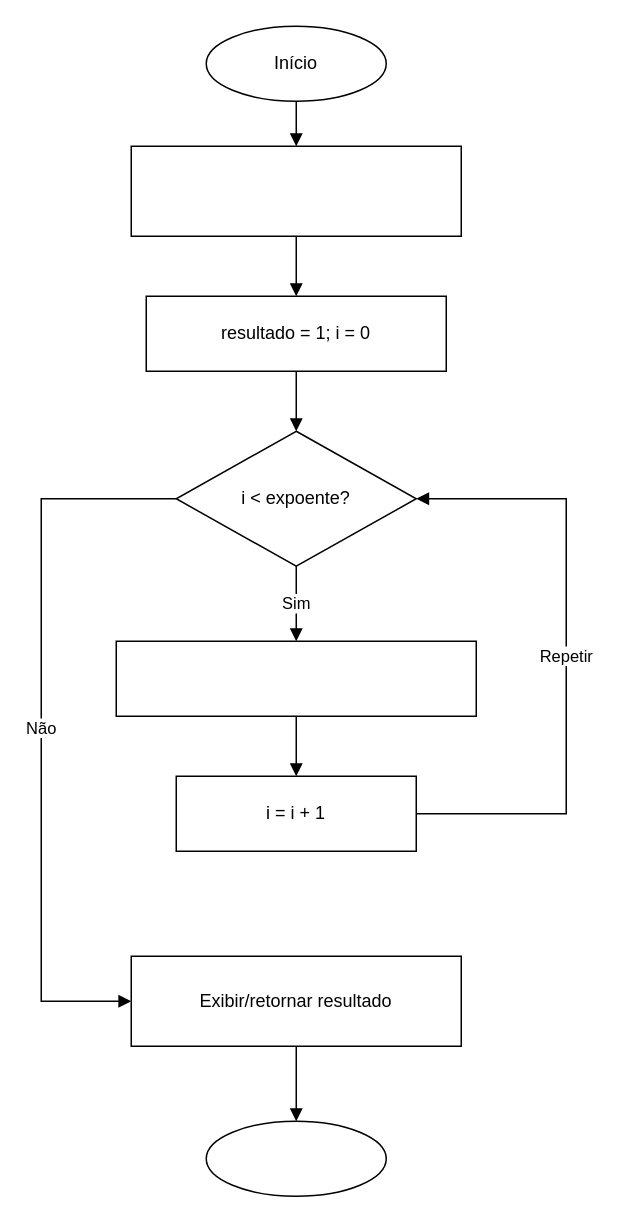
Some shapes in this 618 by 1223 pixel diagram are drawn without their labels. The shapes that lost their labels are listed below. From the top down, each one's centre as x and y in pixels, then its label:
(x=295, y=190): Informar base e expoente
(x=295, y=678): resultado = resultado × base
(x=295, y=1158): Fim
